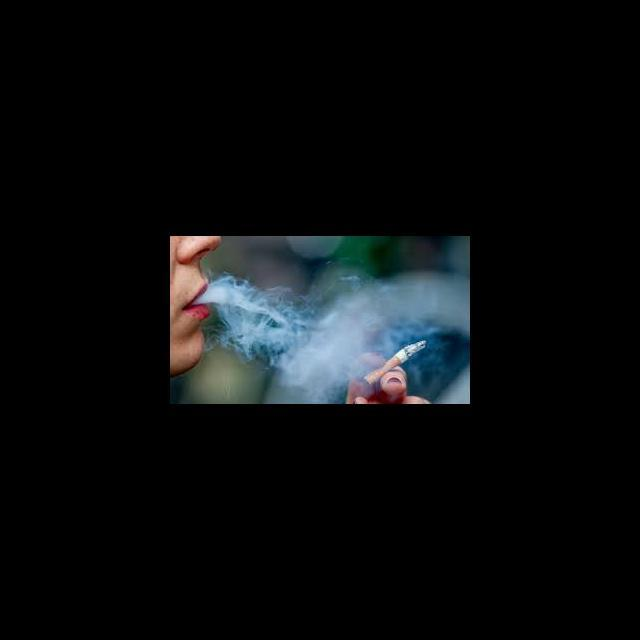Smoke: (210, 274, 368, 370)
